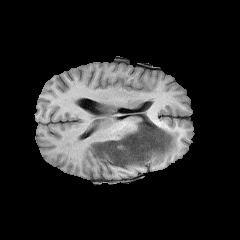glioma: (89, 111, 178, 165)
